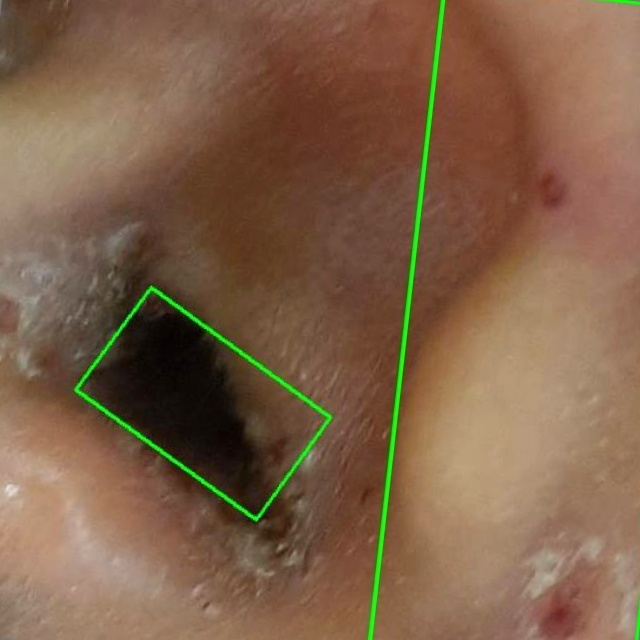Contact Dermatitis: (370, 0, 639, 639), (75, 287, 330, 520)
